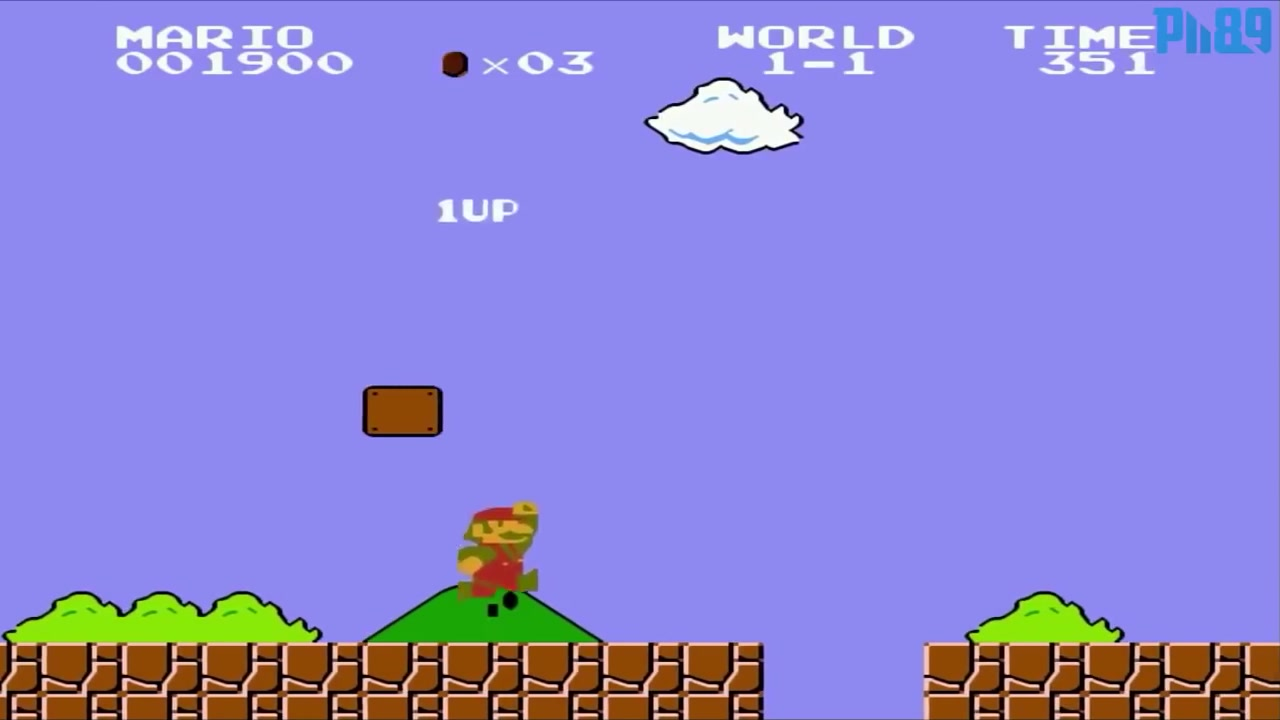mario: (447, 499, 551, 606)
